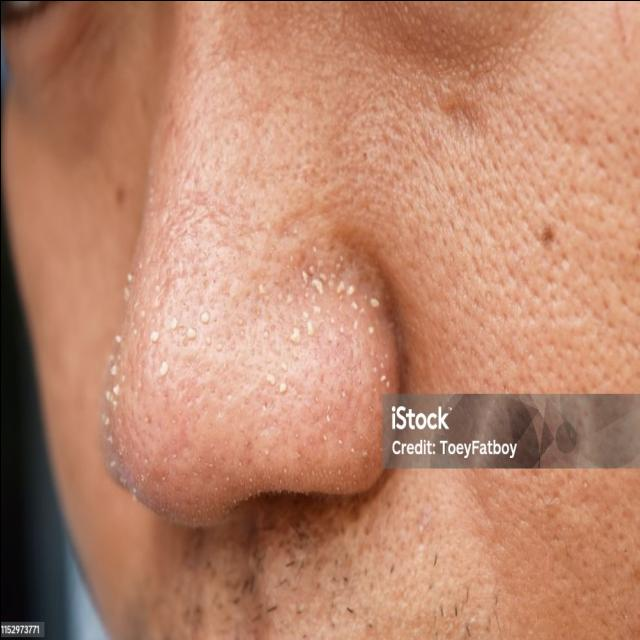whitehead: (103, 159, 402, 517)
